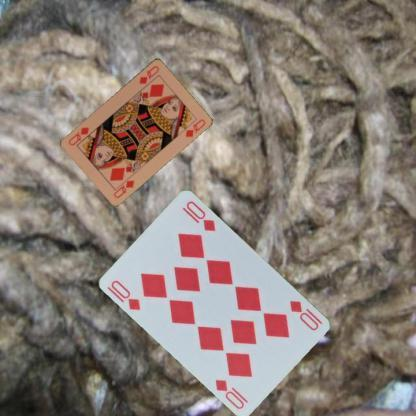10d: (287, 298, 324, 332), (108, 278, 142, 312)
Qd: (111, 172, 135, 200), (136, 62, 161, 85)
